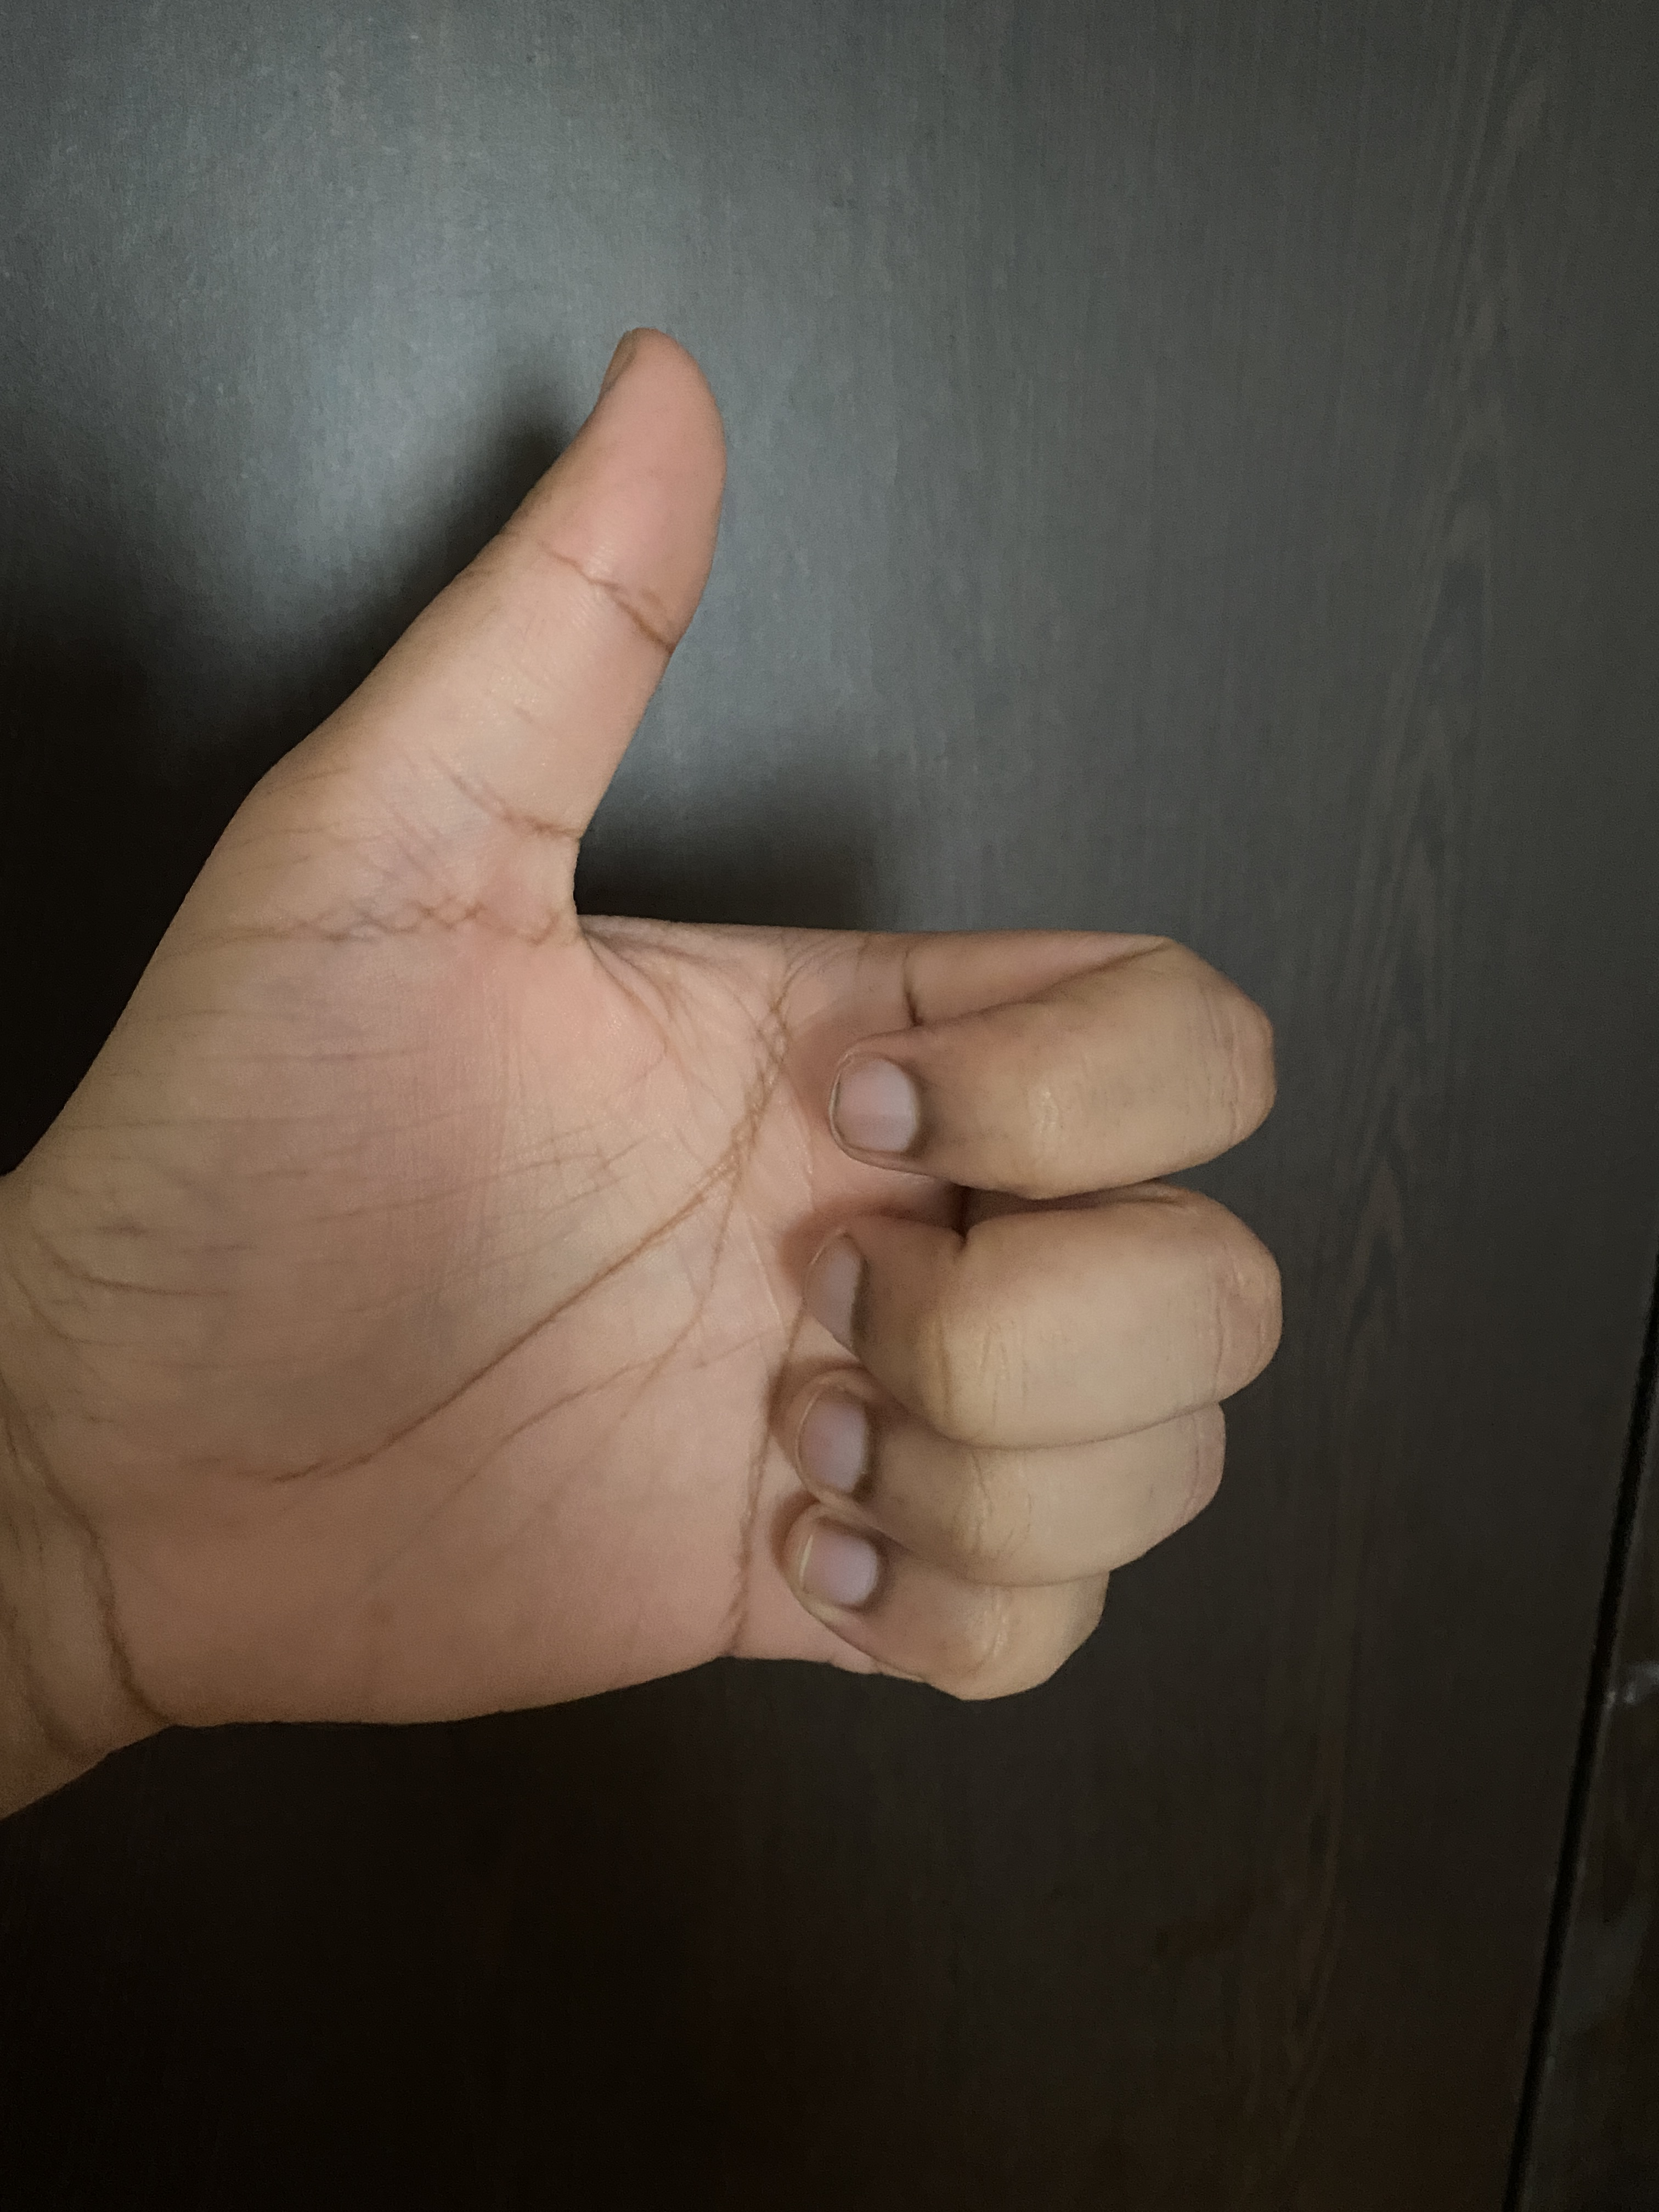up: (21, 284, 1349, 1813)
